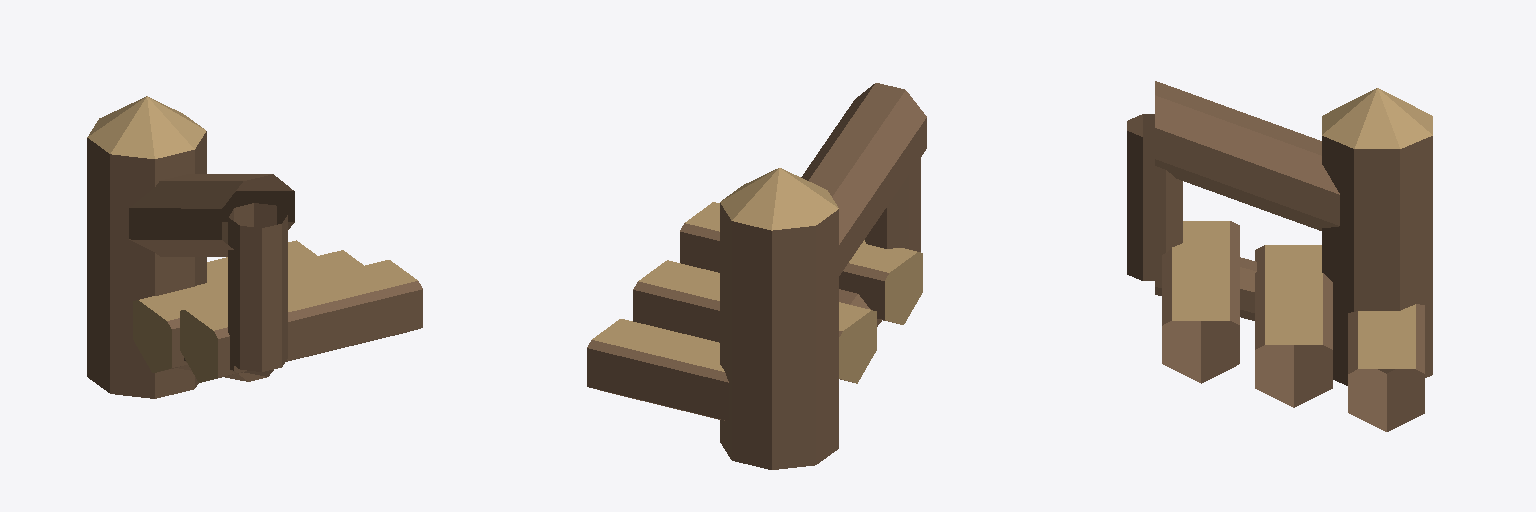
Rendered from Hilly_Prop_Bridge_Log_End_Edge.obj.
3 renders of one model, left to right at view 1: azimuth 30°, elevation 25°; view 2: azimuth 150°, elevation 25°; view 3: azimuth 270°, elevation 25°, orthographic.
Parts seen in each view (by area): view 1: object2, object1, object4, object7, object5, object3; view 2: object2, object7, object3, object5, object1, object4; view 3: object2, object7, object5, object1, object3, object4, object6.
Boxes of the visible parts, x1,y1,x2,y2 form: object2: [87, 96, 206, 398]; object1: [180, 260, 422, 382]; object4: [228, 203, 287, 371]; object7: [129, 174, 294, 256]; object5: [133, 250, 363, 372]; object3: [207, 240, 316, 282]; object2: [720, 168, 838, 469]; object7: [801, 83, 926, 275]; object3: [587, 319, 728, 420]; object5: [633, 260, 876, 383]; object1: [680, 202, 922, 324]; object4: [865, 158, 920, 251]; object2: [1322, 88, 1432, 385]; object7: [1155, 81, 1339, 230]; object5: [1255, 245, 1332, 407]; object1: [1162, 221, 1239, 383]; object3: [1348, 304, 1424, 431]; object4: [1127, 114, 1182, 280]; object6: [1155, 257, 1256, 320].
Bounding box in the file's own units: 0.9 × 1.1 × 1.1.